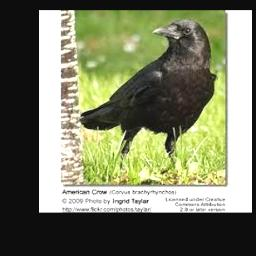Crow: (78, 17, 218, 185)
